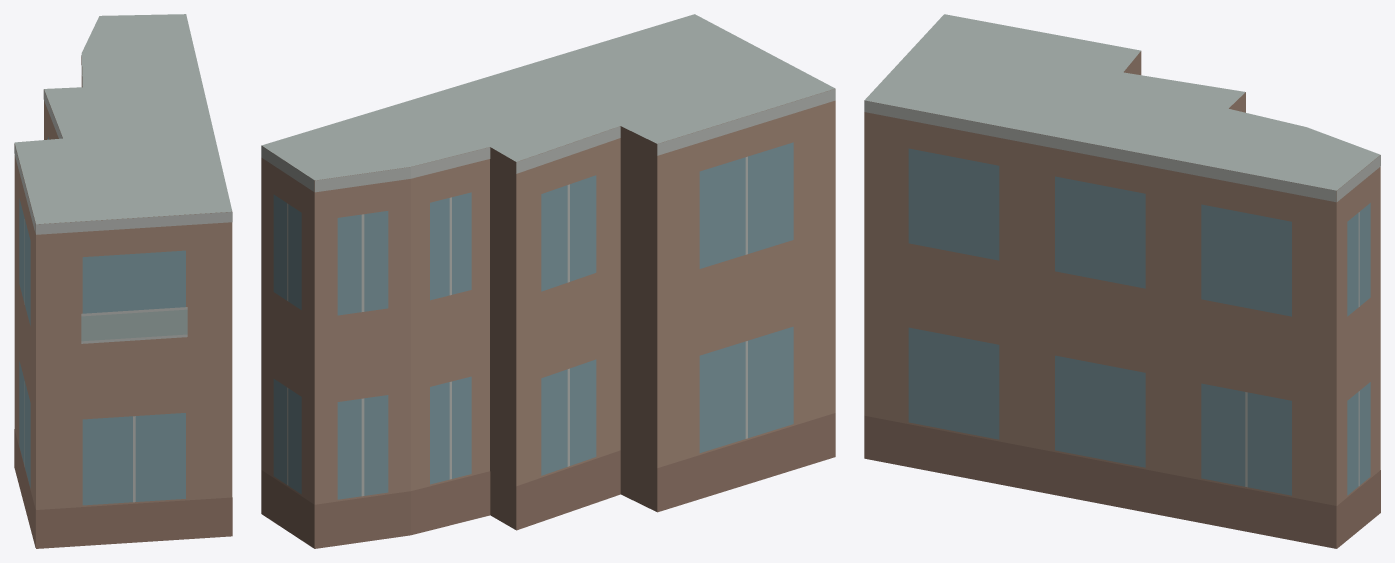
File: survey-upis-32516500.glb
3 views of the same model, side by side, from view 1: azimuth 30°, elevation 25°; view 2: azimuth 150°, elevation 25°; view 3: azimuth 270°, elevation 25° (orthographic). The views are drawn at different scales.
Parts seen in each view (by area): view 1: survey-upis-32516500.tmp; view 2: survey-upis-32516500.tmp; view 3: survey-upis-32516500.tmp.
Boxes of the visible parts, left/top/right/bottom form: survey-upis-32516500.tmp: left=14, top=14, right=232, bottom=548; survey-upis-32516500.tmp: left=261, top=14, right=835, bottom=548; survey-upis-32516500.tmp: left=864, top=14, right=1380, bottom=548.
Size of the model in its own units: 7.94 by 7.5 by 9.81.
